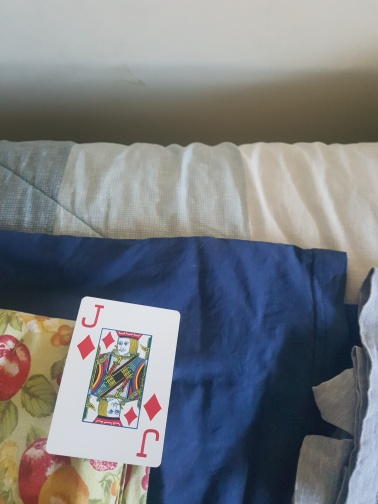jack: (46, 296, 182, 467)
